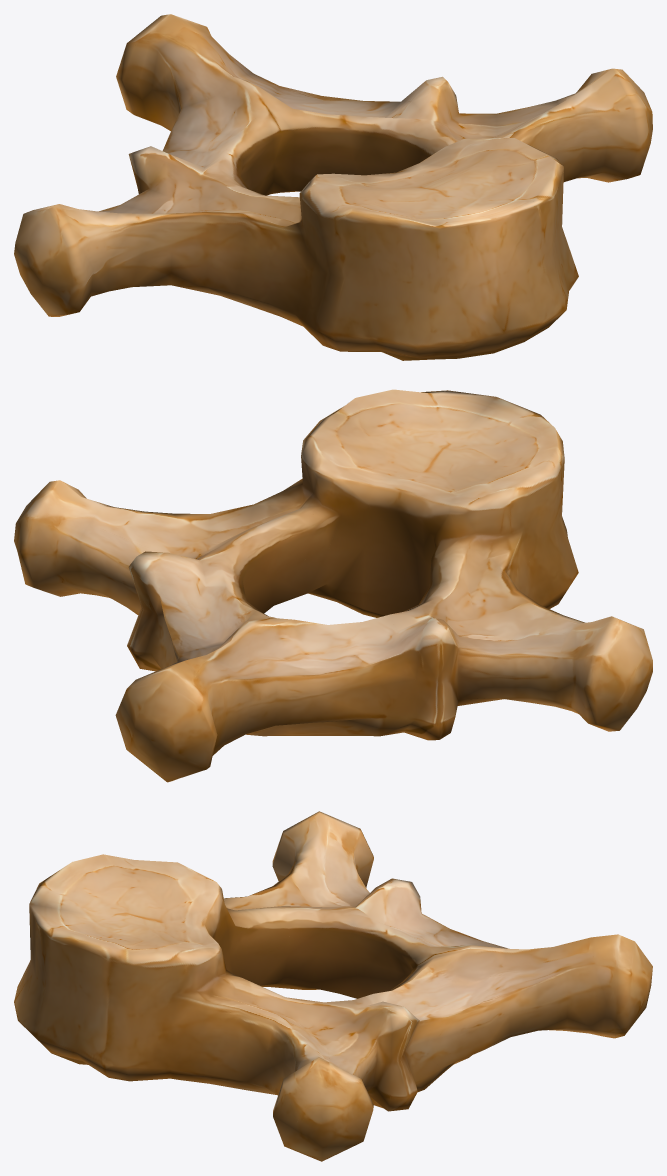
File: Vertebra.glb
The picture shows the model from 3 angles, top to bottom: view 1: azimuth 30°, elevation 25°; view 2: azimuth 150°, elevation 25°; view 3: azimuth 270°, elevation 25°; orthographic projection. The views are drawn at different scales.
Visible parts, largest first — view 1: geometry_0; view 2: geometry_0; view 3: geometry_0.
Part boxes in pixels (x1,y1,x2,y2): geometry_0: [14, 14, 652, 360]; geometry_0: [14, 389, 652, 782]; geometry_0: [14, 811, 652, 1161].
Size of the model in its own units: 1 by 0.2583 by 0.9905.
Materials: 1 (1 with a texture image).
